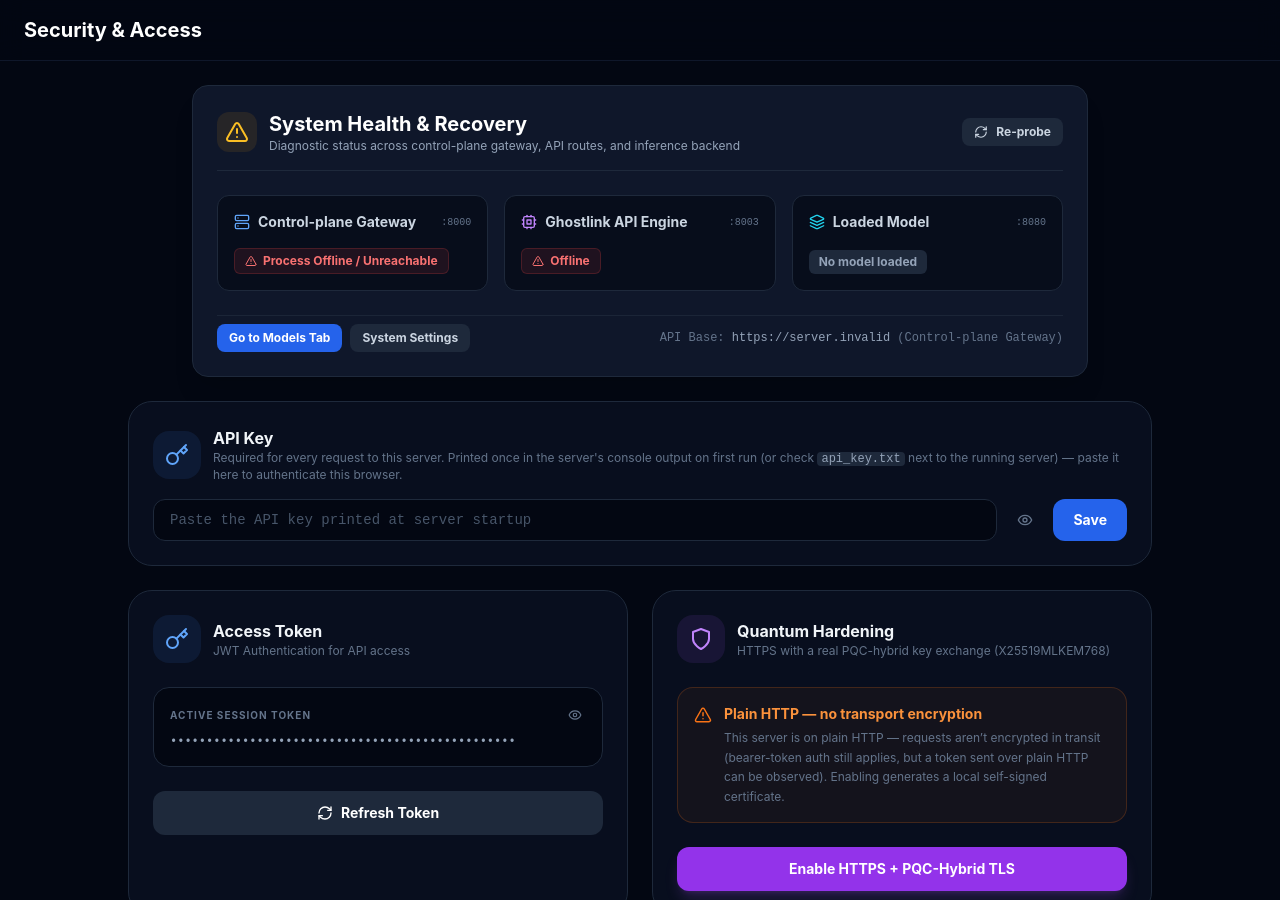
it: SecurityTab › copies the access token to clipboard when copy button is clicked
# Refresh token first to have a valid token
Step 1. Click the button "Refresh Token" → {"x": 378, "y": 813}, box [153,791,603,835]
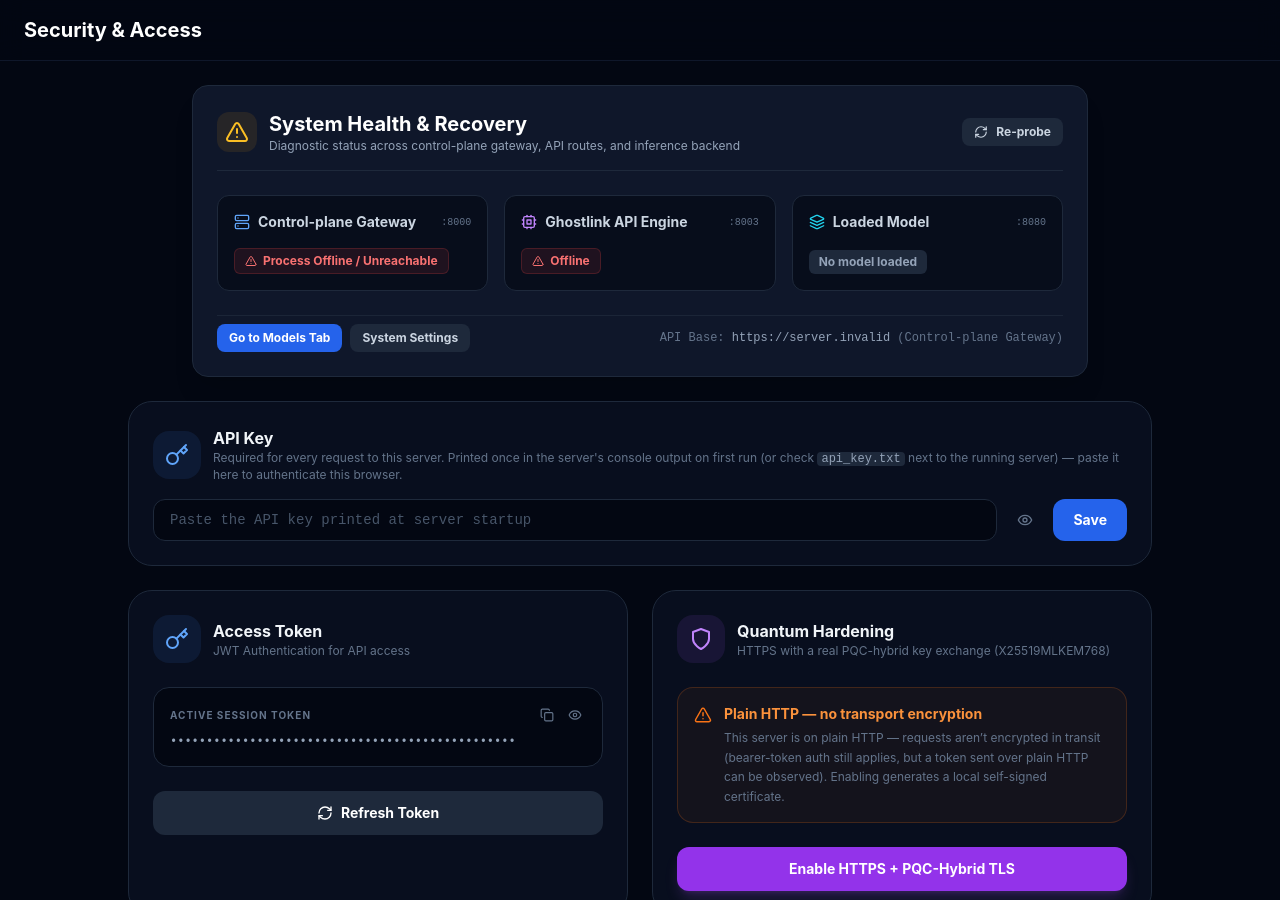
Expected: the button named "copy access token" is shown
Step 2. Click the button named "copy access token" → {"x": 547, "y": 715}, box [536,704,558,726]
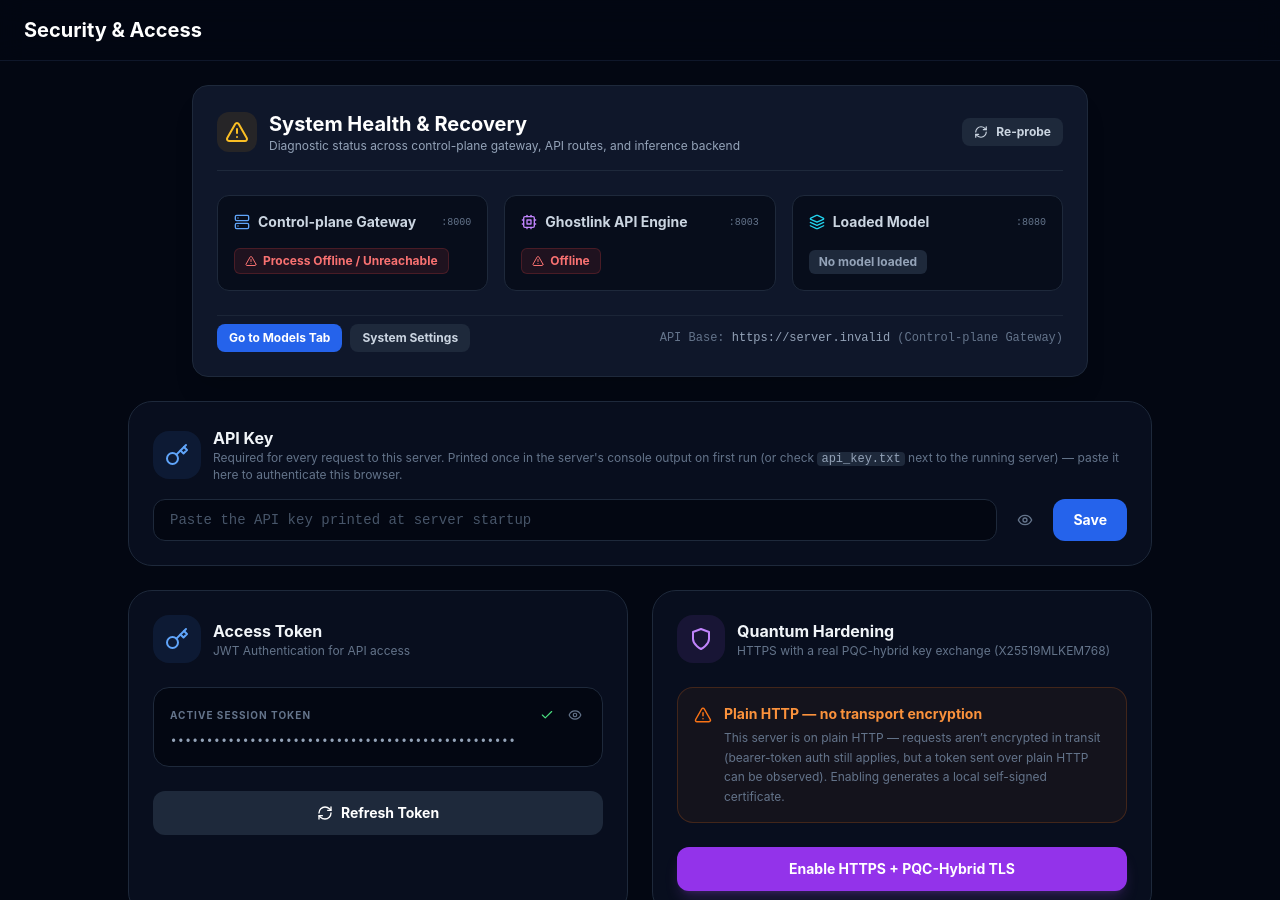
Expected: the button named "copied token" is shown, [536,704,558,726]
